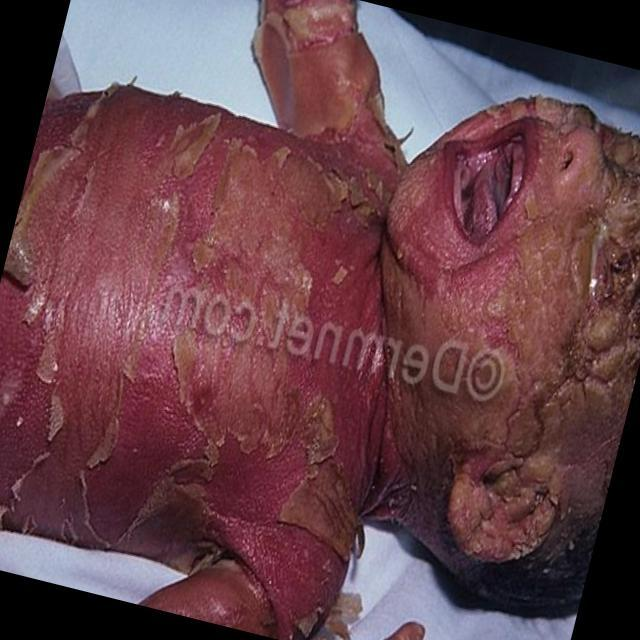Eczema: (1, 94, 397, 558), (388, 95, 640, 565), (250, 0, 392, 145)
